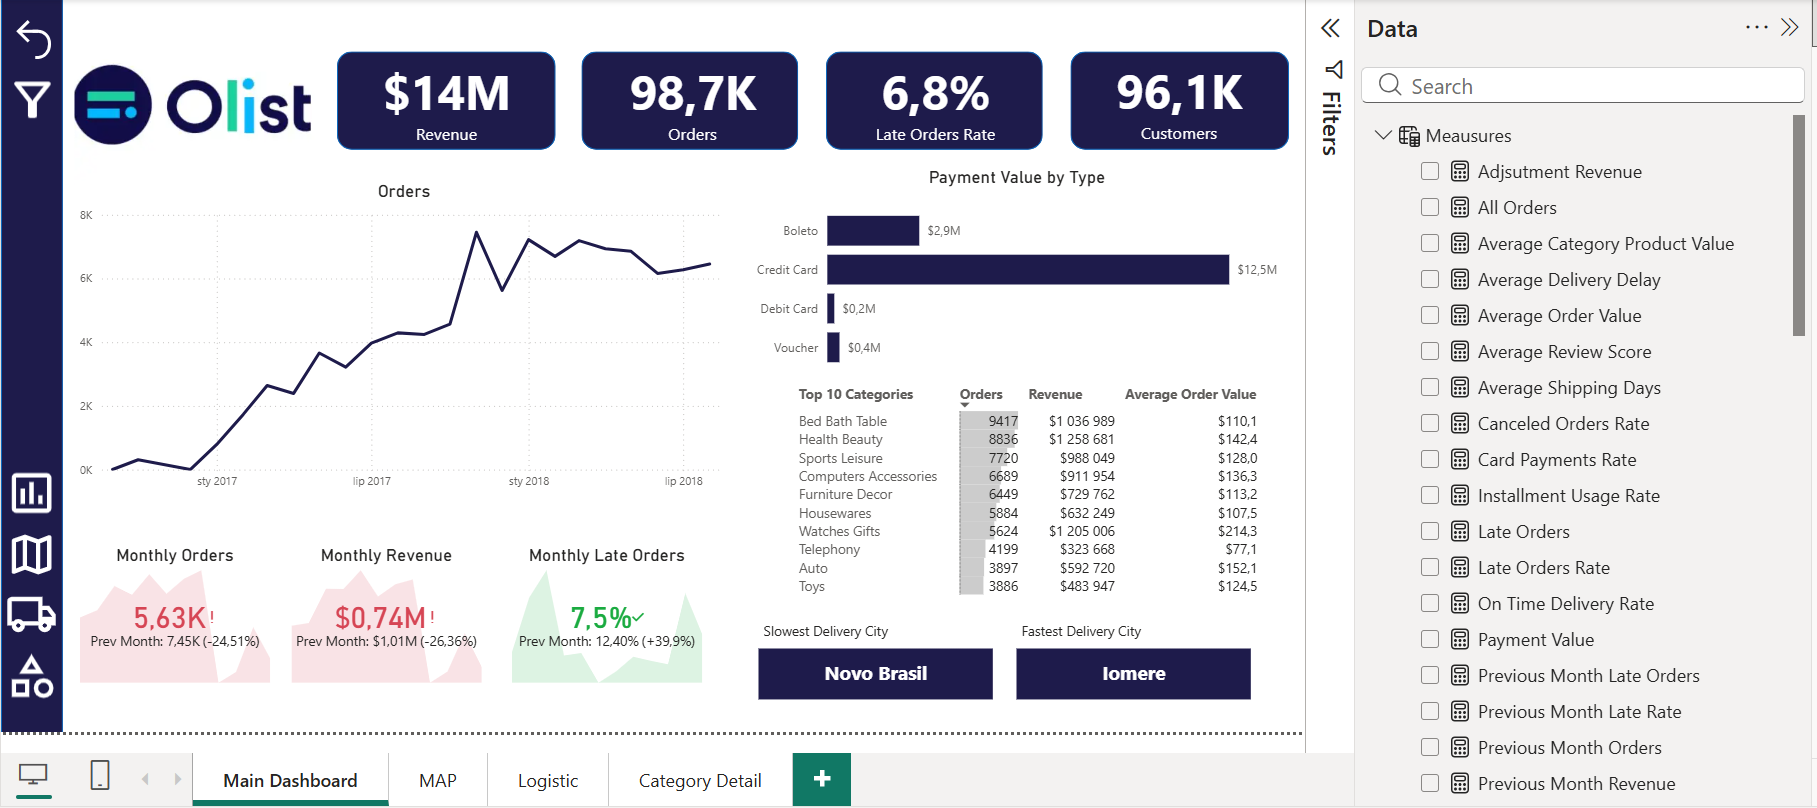

Layout of this report page (visuals, bound fields, positions):
{"tool":"powerbi","page":{"name":"Main Dashboard","canvas":[1280,720],"ordinal":0},"visuals":[{"type":"image","box":[72.7,0,241.8,196.4],"z":0},{"type":"shape","box":[0,0,60.8,721],"z":1000},{"type":"shape","box":[329.1,50.9,214.5,96.4],"z":2000},{"type":"shape","box":[570.3,50.9,212.7,96.4],"z":3000},{"type":"shape","box":[809.7,50.9,212.7,96.4],"z":4000},{"type":"shape","box":[1049.1,50.9,214.5,96.4],"z":5000},{"type":"card","fields":{"Values":["Meausures.Total Revenue"]},"box":[329.1,50.9,214.5,96.4],"z":6000},{"type":"card","fields":{"Values":["Meausures.Late Orders Rate"]},"box":[809.1,50.9,214.5,96.4],"z":7000},{"type":"card","fields":{"Values":["Meausures.Total Orders"]},"box":[570.9,50.9,214.5,96.4],"z":8000},{"type":"card","fields":{"Values":["Meausures.Total Customers"]},"box":[1050,50,212.5,97.5],"z":9000},{"type":"lineChart","title":"Weekly Orders","fields":{"Category":["Date.Week Start Date.Variation.Date Hierarchy.Year","Date.Week Start Date.Variation.Date Hierarchy.Month","Date.Week Start Date.Variation.Date Hierarchy.Day"],"Y":["Meausures.Total Orders"]},"box":[72.9,178.6,647.1,311.4],"z":10000},{"type":"kpi","title":"Monthly Orders","fields":{"Goal":["Meausures.Previous Month Orders"],"Indicator":["Meausures.Total Orders"],"TrendLine":["Date.Month"]},"box":[72.9,535.7,197.1,140],"z":11000},{"type":"kpi","title":"Monthly Revenue","fields":{"Goal":["Meausures.Previous Month Revenue"],"Indicator":["Meausures.Total Revenue"],"TrendLine":["Date.Month"]},"box":[280,535.7,197.1,140],"z":12000},{"type":"kpi","title":"Monthly Late Orders","fields":{"Goal":["Meausures.Previous Month Late Orders"],"Indicator":["Meausures.Late Orders"],"TrendLine":["Date.Month"]},"box":[495.7,535.7,197.1,140],"z":13000},{"type":"barChart","title":"Revenue by Payment Type","fields":{"Category":["Order Payments.payment_type"],"Y":["Meausures.Total Revenue"]},"box":[731.4,164.3,531.4,212.9],"z":14000},{"type":"pivotTable","fields":{"Rows":["Product.Category"],"Values":["Meausures.cr","Meausures.Product Value","Meausures.Average Category Product Value"]},"box":[772.9,372.9,480,232.9],"z":15000},{"type":"card","fields":{"Values":["Min(Customer.City)"]},"box":[744.3,637.1,230,50],"z":16000},{"type":"textbox","box":[744.3,605.7,215.7,37.1],"z":17000},{"type":"card","fields":{"Values":["Min(Customer.City)"]},"box":[997.1,637.1,230,50],"z":18000},{"type":"textbox","box":[997.1,605.7,215.7,37.1],"z":19000}]}

Visuals, with their boxes on the page's 1280x720 design canvas (x1, y1, x2, y2). These are canvas units, not pixel positions in the 1817x808 screenshot, which may show the page scaled, cropped or inside an application window:
image: bbox=(73, 0, 314, 196)
shape: bbox=(0, 0, 61, 721)
shape: bbox=(329, 51, 544, 147)
shape: bbox=(570, 51, 783, 147)
shape: bbox=(810, 51, 1022, 147)
shape: bbox=(1049, 51, 1264, 147)
card - Meausures.Total Revenue: bbox=(329, 51, 544, 147)
card - Meausures.Late Orders Rate: bbox=(809, 51, 1024, 147)
card - Meausures.Total Orders: bbox=(571, 51, 785, 147)
card - Meausures.Total Customers: bbox=(1050, 50, 1262, 148)
"Weekly Orders" lineChart: bbox=(73, 179, 720, 490)
"Monthly Orders" kpi: bbox=(73, 536, 270, 676)
"Monthly Revenue" kpi: bbox=(280, 536, 477, 676)
"Monthly Late Orders" kpi: bbox=(496, 536, 693, 676)
"Revenue by Payment Type" barChart: bbox=(731, 164, 1263, 377)
pivotTable - Product.Category x Meausures.cr: bbox=(773, 373, 1253, 606)
card - Min(Customer.City): bbox=(744, 637, 974, 687)
textbox: bbox=(744, 606, 960, 643)
card - Min(Customer.City): bbox=(997, 637, 1227, 687)
textbox: bbox=(997, 606, 1213, 643)
